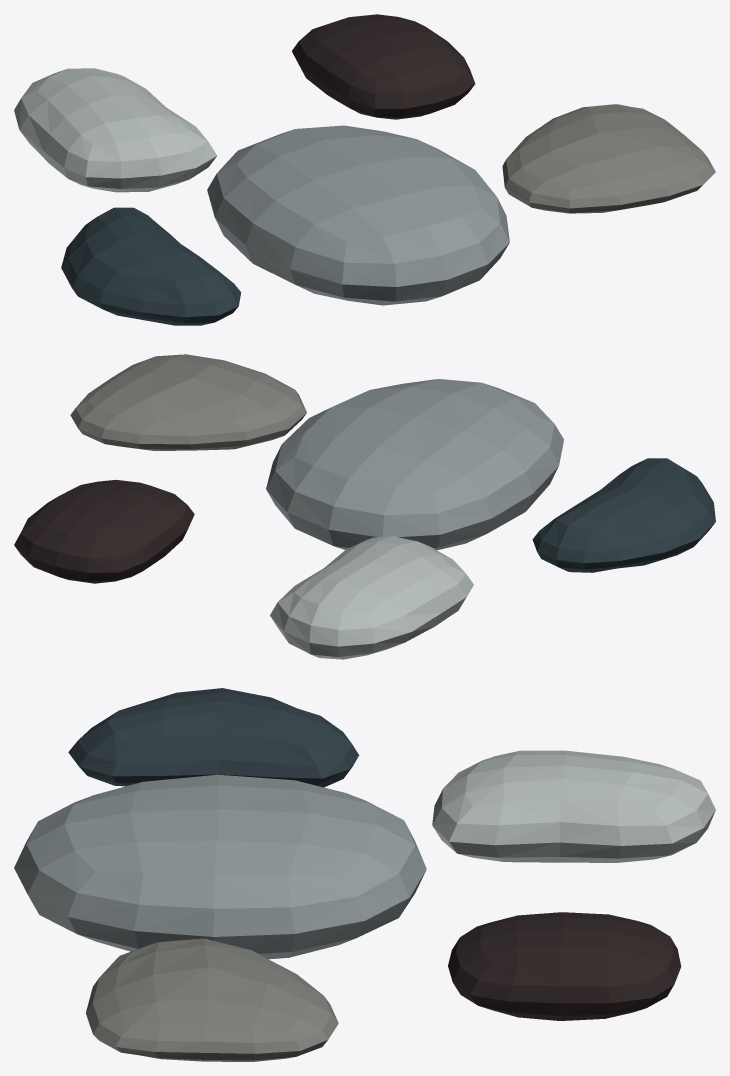
Rendered from 50096420-cb05-4efb-9e9c-b8d4a086ecc6.glb.
The picture shows the model from 3 angles, top to bottom: view 1: azimuth 30°, elevation 25°; view 2: azimuth 150°, elevation 25°; view 3: azimuth 270°, elevation 25°; orthographic projection. The views are drawn at different scales.
Visible parts, largest first — view 1: Node; view 2: Node; view 3: Node.
Boxes of the visible parts, x1,y1,x2,y2 form: Node: (14, 14, 715, 325); Node: (14, 354, 715, 659); Node: (14, 688, 715, 1061).
Bounding box in the file's own units: 3.13 × 0.4966 × 2.64.
